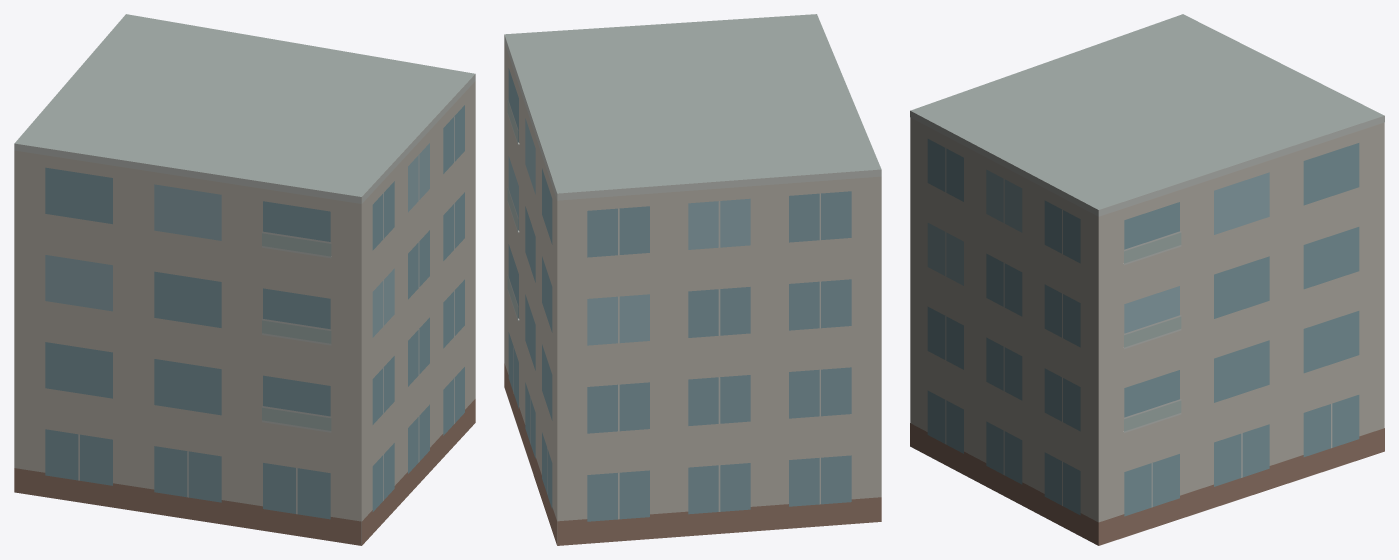
Rendered from survey-upis-32774869.glb.
3 views of the same model, side by side, from view 1: azimuth 30°, elevation 25°; view 2: azimuth 150°, elevation 25°; view 3: azimuth 270°, elevation 25° (orthographic). The views are drawn at different scales.
Parts seen in each view (by area): view 1: survey-upis-32774869.tmp; view 2: survey-upis-32774869.tmp; view 3: survey-upis-32774869.tmp.
Boxes of the visible parts, <box> form: survey-upis-32774869.tmp: <box>14,14,475,545</box>; survey-upis-32774869.tmp: <box>504,14,881,545</box>; survey-upis-32774869.tmp: <box>910,14,1384,545</box>.
Bounding box in the file's own units: 15.29 × 12.2 × 15.63.
